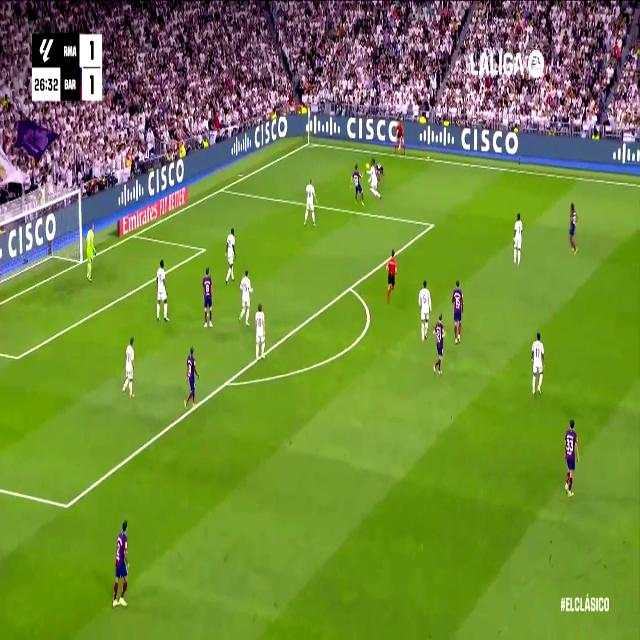bigarea_bottom_inner: (61, 490, 73, 520)
bigarea_top_inner: (428, 215, 436, 234)
bigarea_top_outter: (218, 182, 226, 195)
bottom_arc_area_intersection: (221, 368, 234, 396)
corner: (304, 136, 314, 148)
smallarea_bottom_inner: (12, 347, 22, 368)
smallarea_top_inner: (200, 240, 208, 258)
top_arc_area_intersection: (345, 277, 355, 297)
